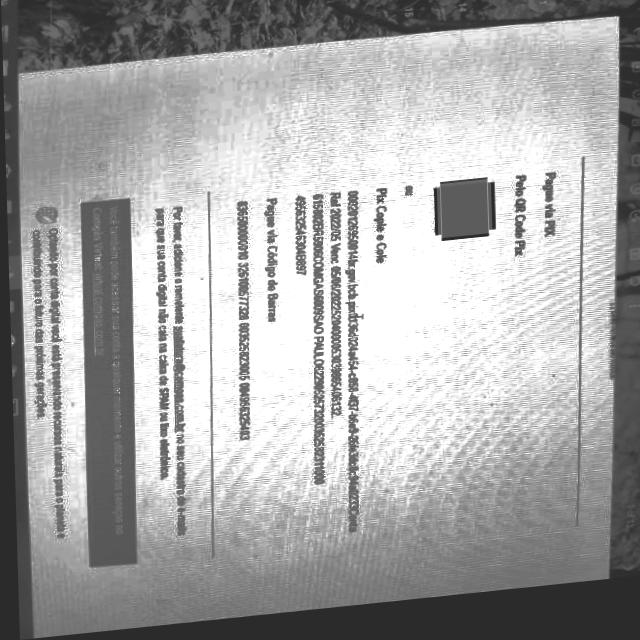qr_code: (434, 190, 490, 248)
